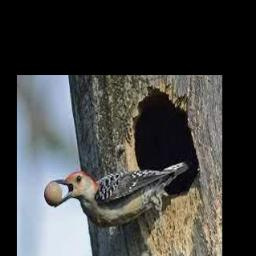Woodpecker: (50, 160, 189, 228)
